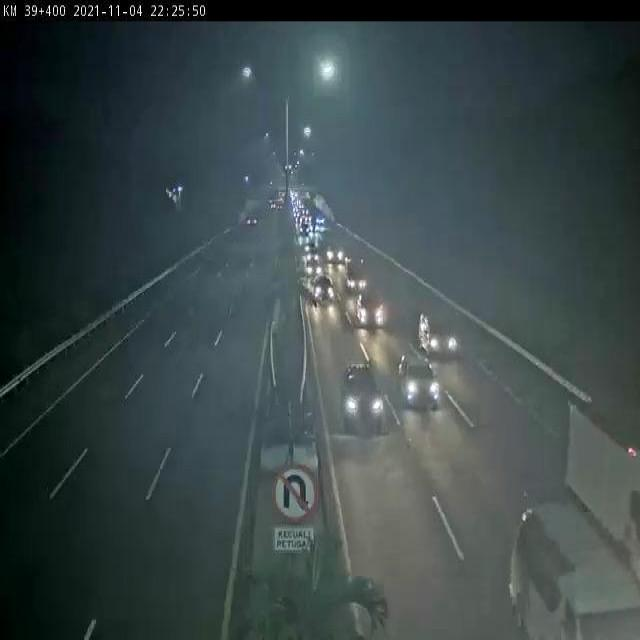car: (508, 504, 634, 640), (336, 362, 390, 450), (413, 307, 470, 368), (392, 352, 443, 412), (349, 291, 393, 341), (305, 272, 335, 312)
truck-s-: (559, 381, 640, 540), (339, 255, 376, 300)
